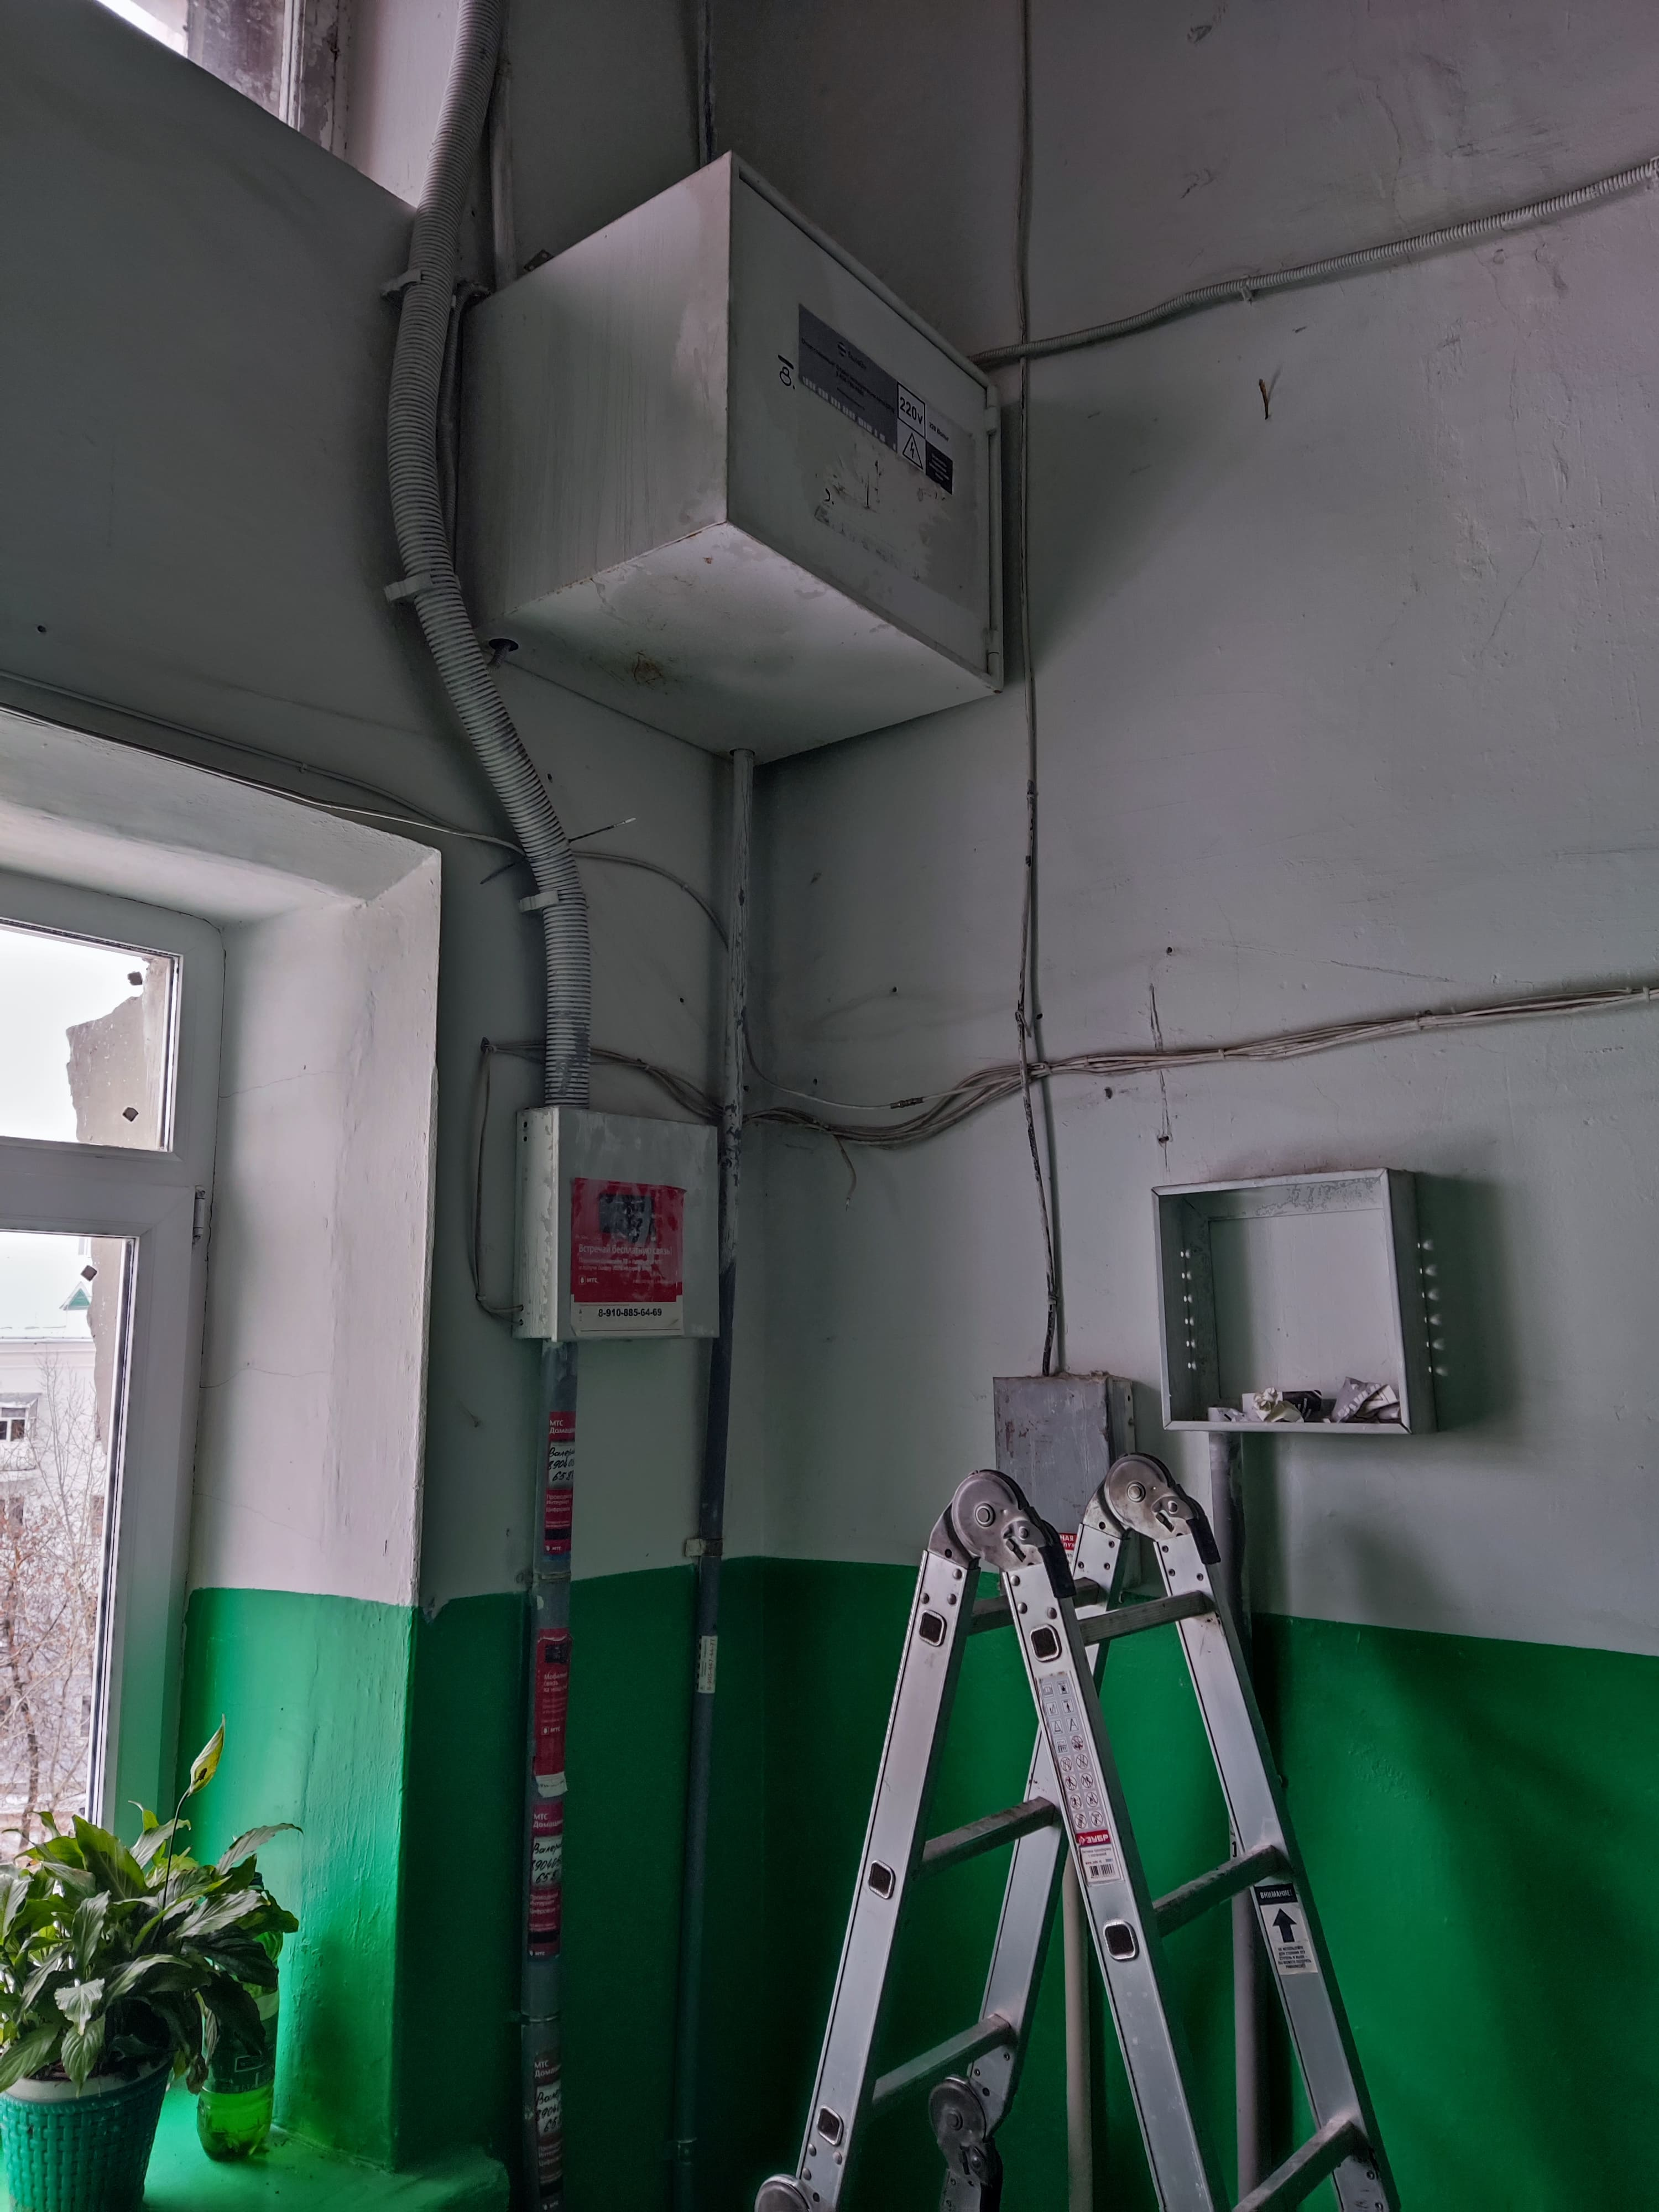shta-9m: (457, 145, 1006, 780)
